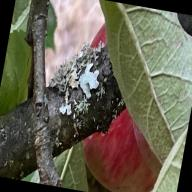Apples: (65, 20, 185, 192)
